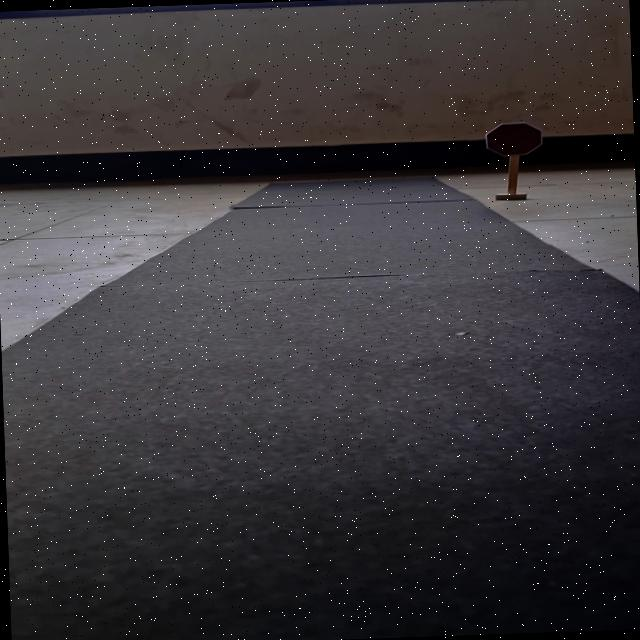Stop: (484, 121, 544, 157)
